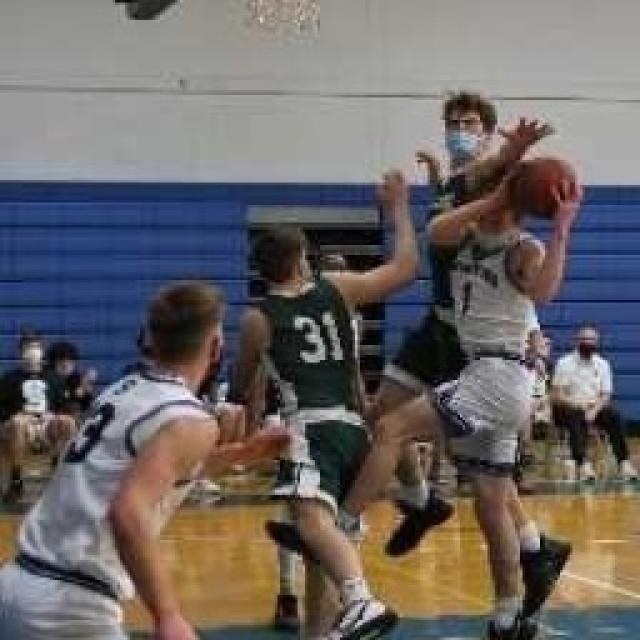rim: (511, 152, 578, 220)
